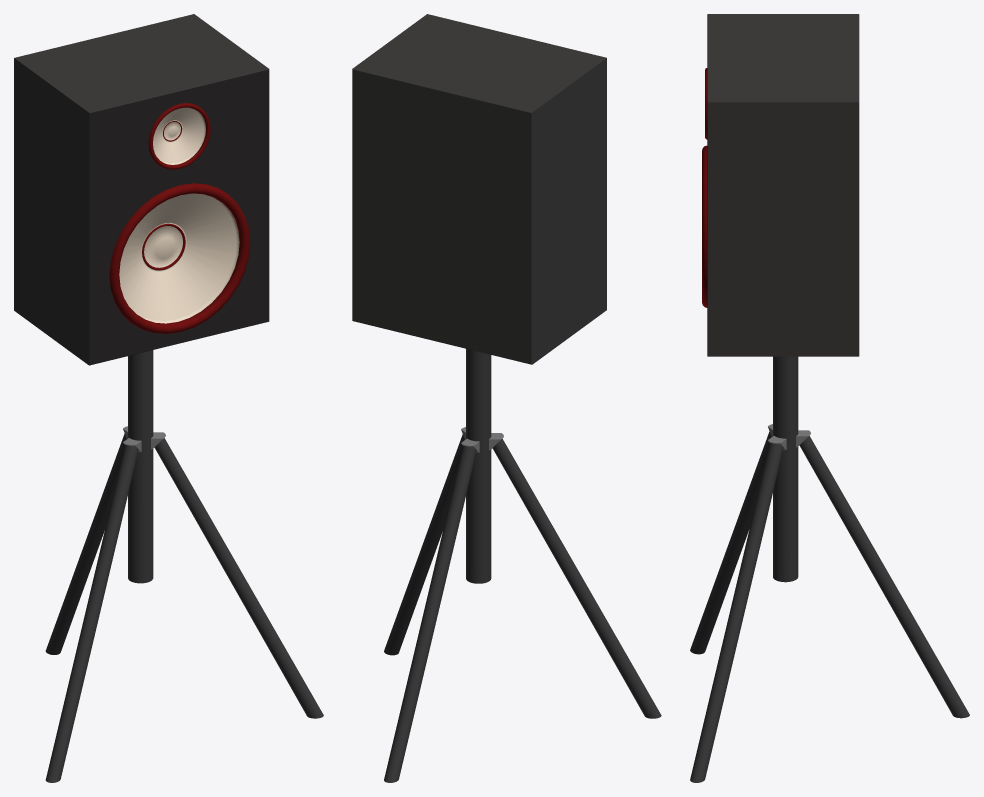
The model's file is pied_HP.fbx.
3 views of the same model, side by side, from view 1: azimuth 30°, elevation 25°; view 2: azimuth 150°, elevation 25°; view 3: azimuth 270°, elevation 25° (orthographic).
Parts seen in each view (by area): view 1: Enceinte, Tubes; view 2: Enceinte, Tubes; view 3: Enceinte, Tubes.
Part boxes in pixels (box(x1,y1,x2,y2)): Enceinte: box(14, 14, 269, 365); Tubes: box(45, 350, 323, 782); Enceinte: box(352, 14, 606, 364); Tubes: box(384, 349, 661, 782); Enceinte: box(702, 14, 859, 356); Tubes: box(690, 356, 969, 782).
Size of the model in its own units: 62.28 by 141 by 54.29.
